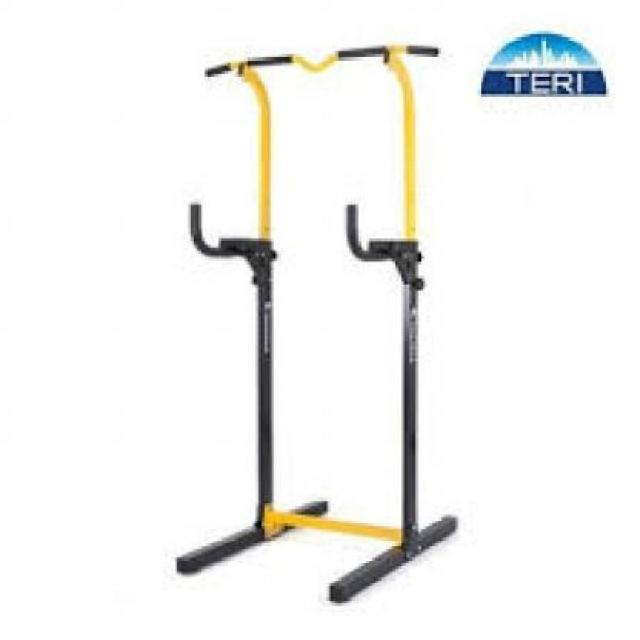chinning dipping: (174, 41, 460, 604)
